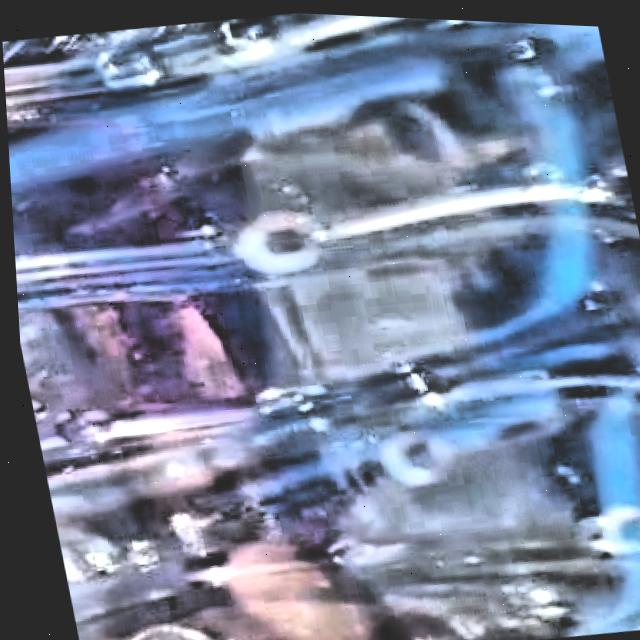plastic: (2, 10, 640, 640)
